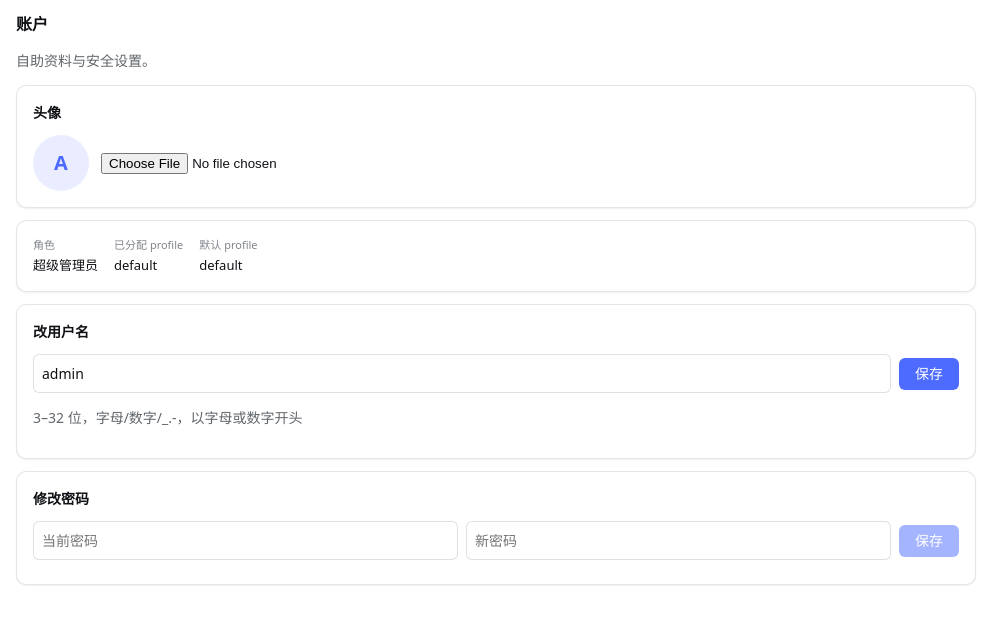
it: AccountPage (M23) 自助资料 › renames the username via PATCH /api/auth/profile
Replace the text in the field named "用户名" with "admin2" at [462, 374], box [33, 354, 891, 393]
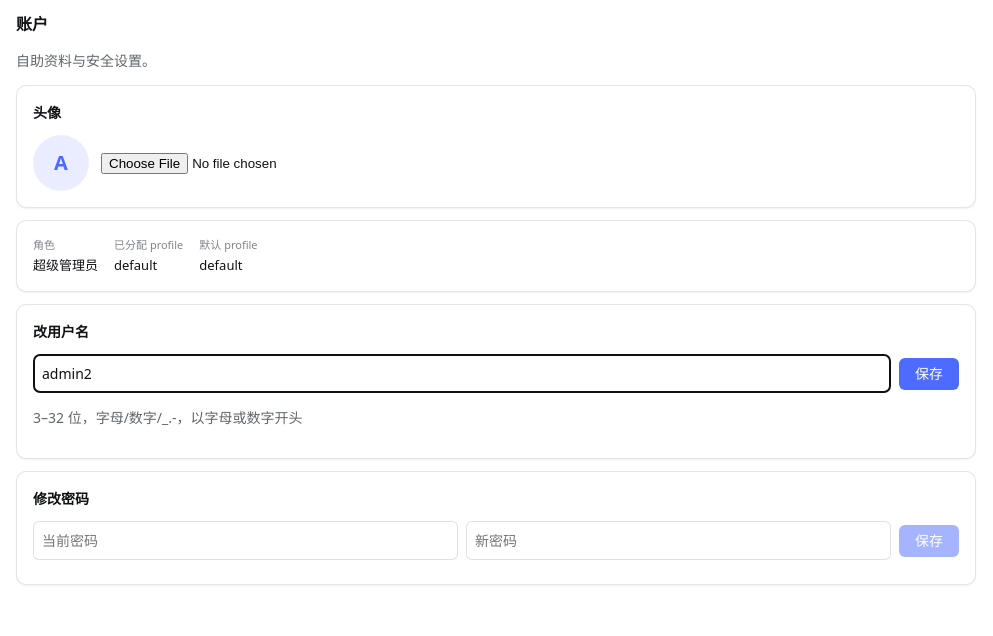
Click the 1st button "保存" at [929, 374], box [899, 358, 959, 390]
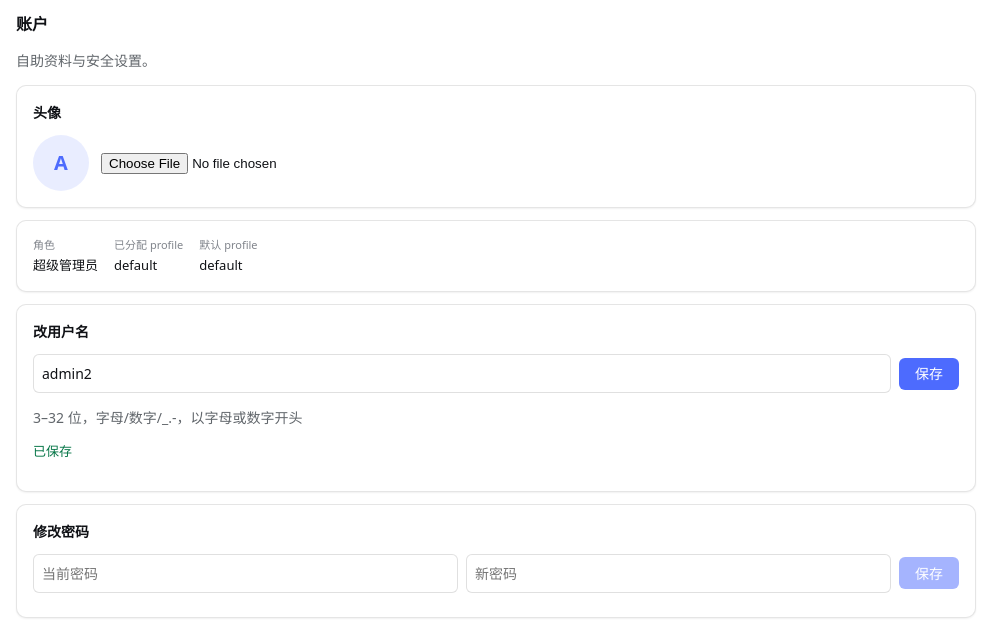
Result: the text "已保存" is shown at [33, 442, 72, 460]
